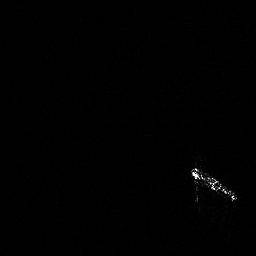ship: (190, 166, 239, 205)
